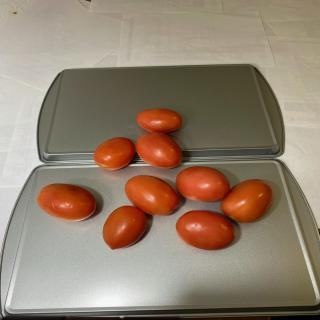Tomato: (175, 210, 236, 251), (220, 179, 275, 223), (37, 183, 96, 222), (124, 175, 180, 216), (102, 205, 148, 250), (175, 166, 230, 202), (136, 132, 182, 169), (93, 137, 135, 170), (136, 108, 182, 133)
